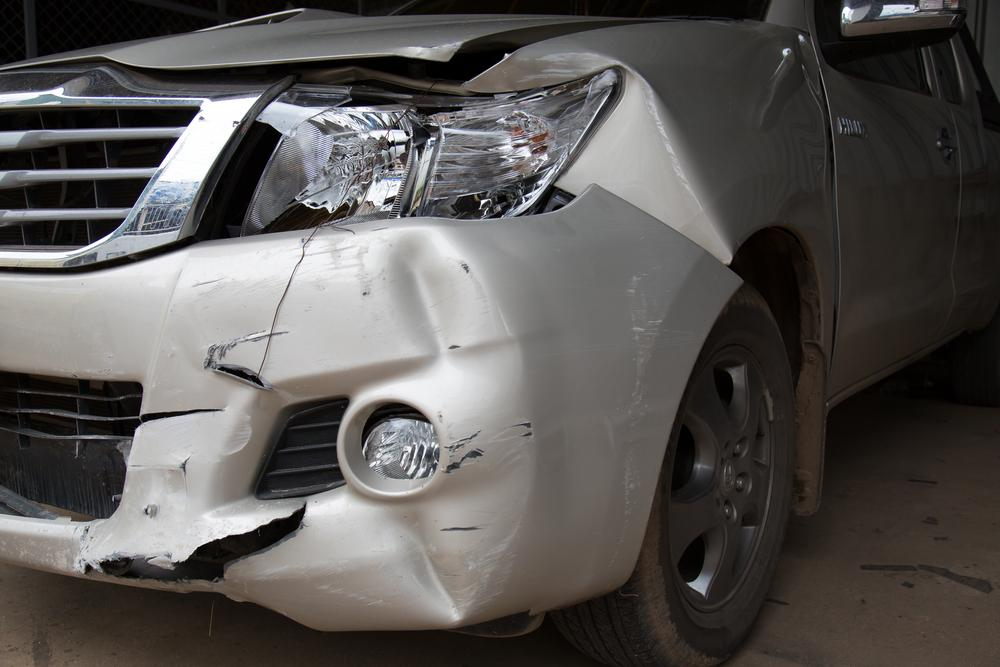crack: (83, 501, 307, 584), (136, 408, 225, 430), (216, 365, 268, 389), (181, 456, 191, 496)
dent: (562, 75, 730, 262), (381, 448, 528, 622), (390, 229, 521, 406)
lamp broken: (236, 68, 625, 232)
scratch: (619, 271, 668, 513), (444, 415, 541, 477), (298, 234, 375, 307), (202, 328, 269, 370)
